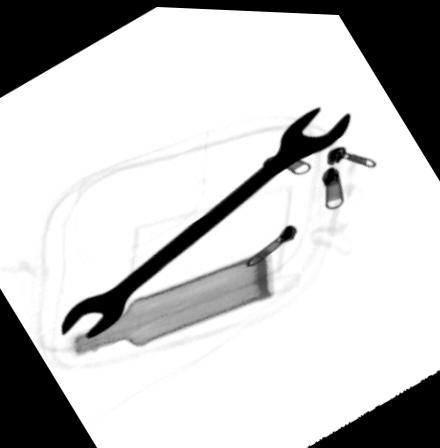Wrench: (58, 97, 354, 341)
